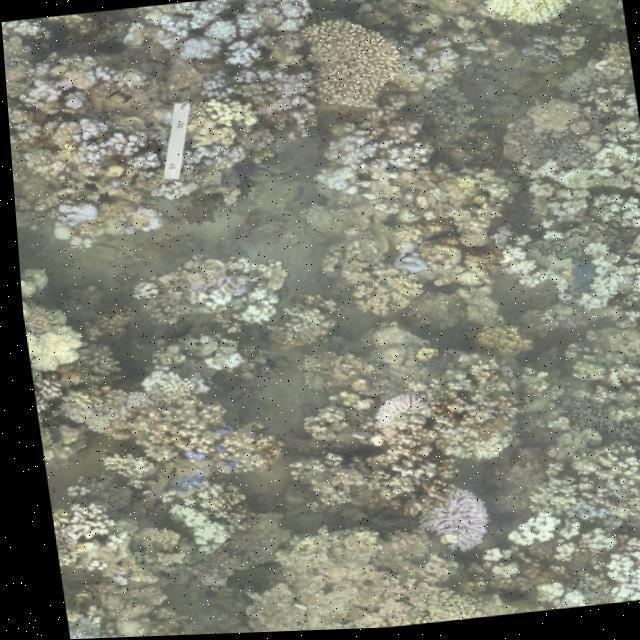Bleached Coral: (172, 88, 296, 208), (300, 110, 431, 208), (139, 0, 309, 73), (123, 345, 258, 413), (165, 471, 243, 556), (418, 479, 486, 563), (177, 284, 277, 339), (465, 0, 609, 35), (66, 121, 158, 175), (10, 70, 90, 121), (45, 493, 108, 553), (491, 499, 552, 559), (358, 390, 432, 439), (590, 539, 640, 608), (48, 187, 108, 244), (55, 604, 98, 640), (88, 62, 117, 88)
